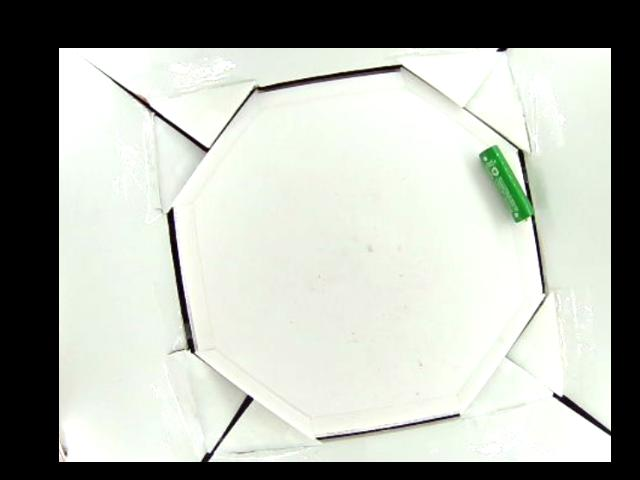Battery: (478, 144, 534, 223)
